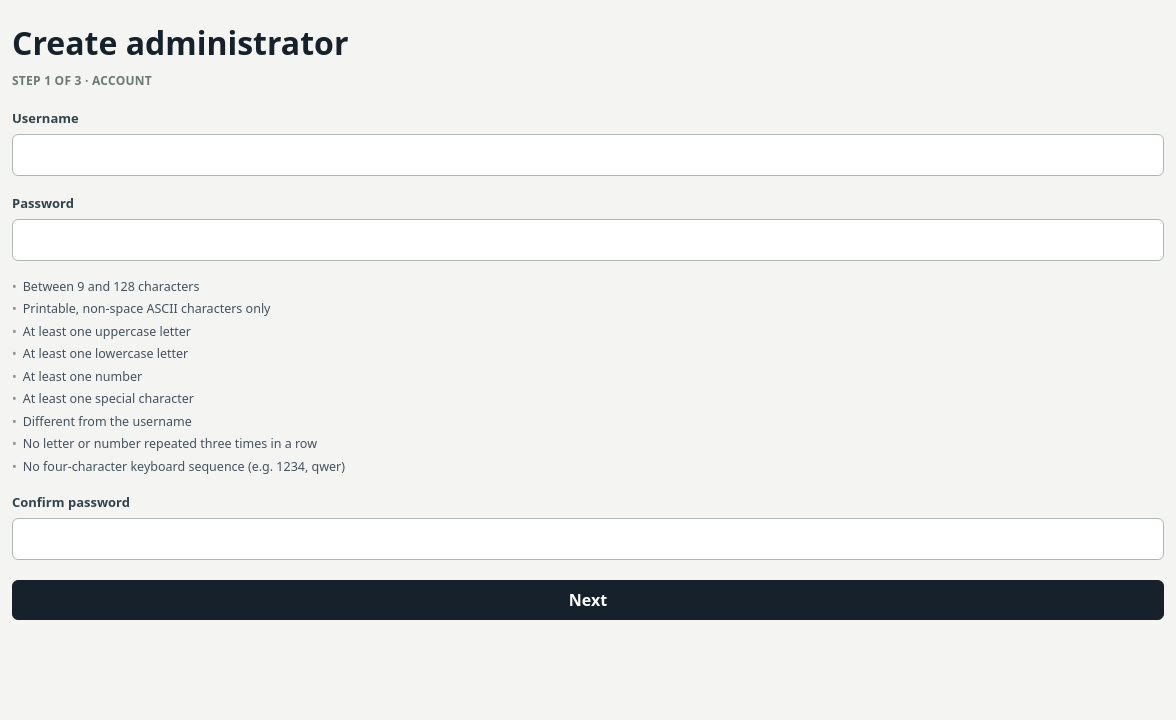
Test: SetupCredentialsStep › marks the length requirement unmet, with aria-invalid and a textual marker, for its rejecting vector
Type "operator.one" into the field labelled "Username" at (588, 155), box [12,134,1164,176]
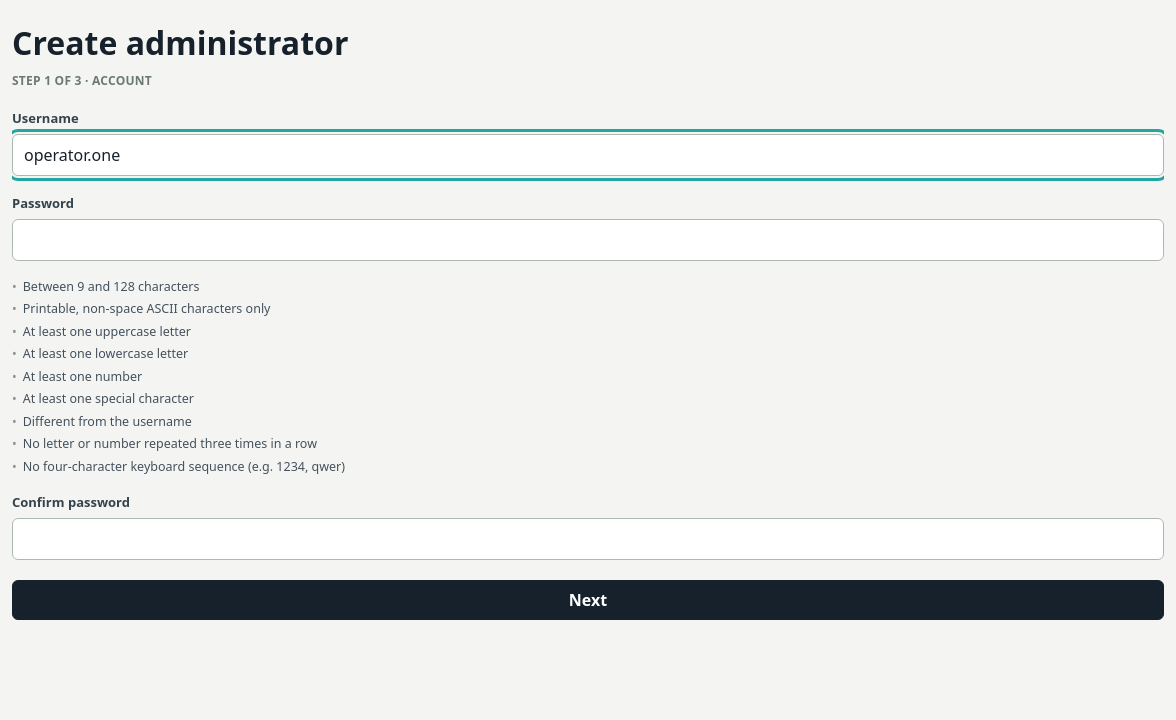
Type "Sh0rt!aa" into the password field labelled "Password" at (588, 240), box [12,219,1164,261]
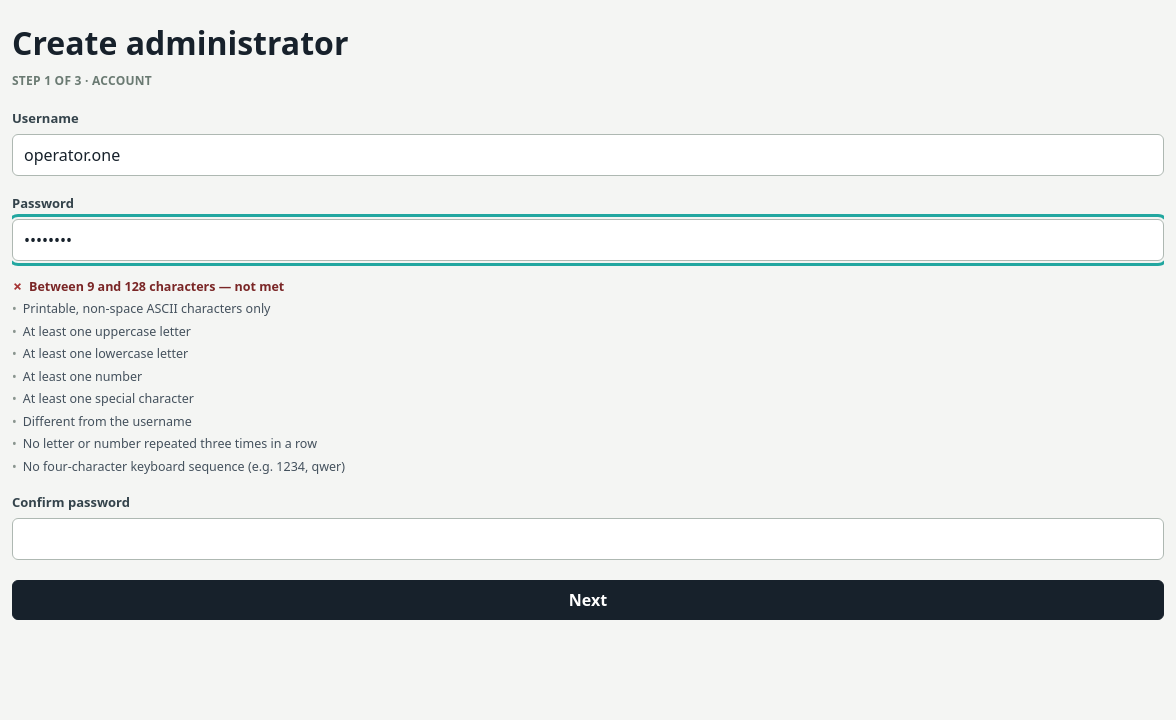
Result: the list item "Between 9 and 128 characters" shows "not met" at [216,278,284,295]
